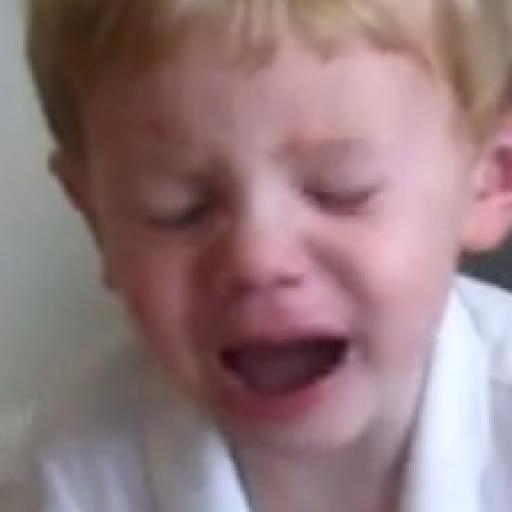Autism: (68, 26, 512, 497)
